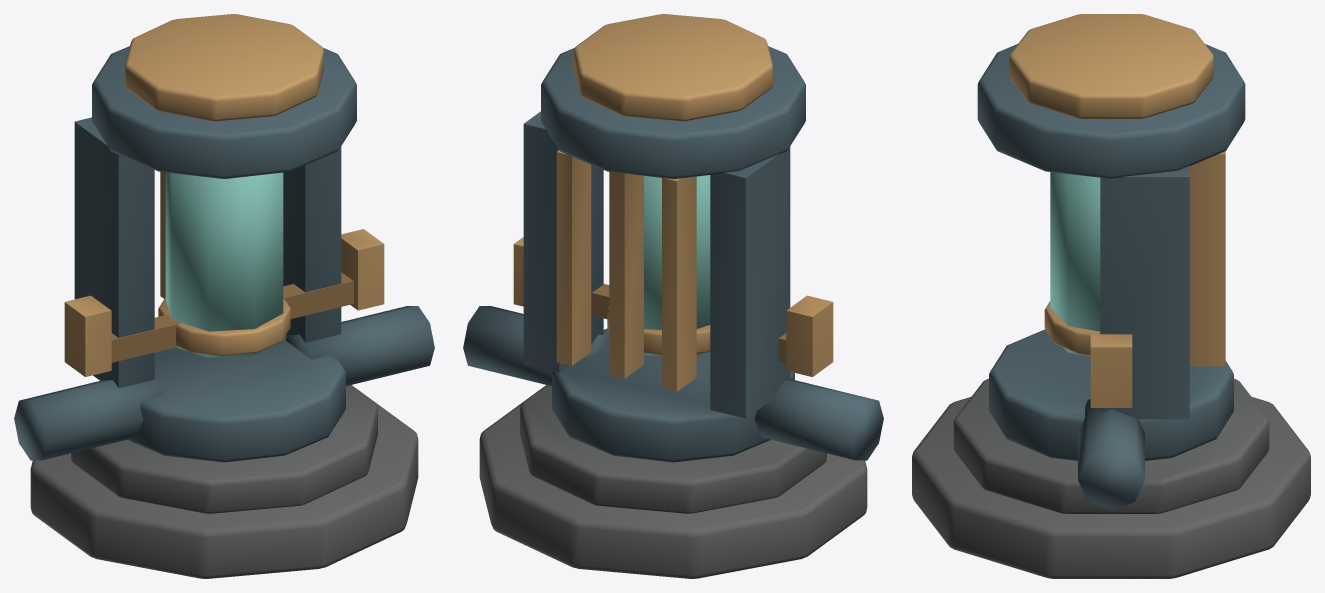
The model's file is forge-conduit-v1.glb.
The picture shows the model from 3 angles, left to right: view 1: azimuth 30°, elevation 25°; view 2: azimuth 150°, elevation 25°; view 3: azimuth 270°, elevation 25°; orthographic projection.
Parts seen in each view (by area): view 1: GB_CONDUIT_IRON, GB_CONDUIT_BASE, GB_CONDUIT_COPPER, GB_CONDUIT_FLOW, GB_CONDUIT_ROTOR_MESH; view 2: GB_CONDUIT_IRON, GB_CONDUIT_BASE, GB_CONDUIT_COPPER, GB_CONDUIT_ROTOR_MESH, GB_CONDUIT_FLOW; view 3: GB_CONDUIT_IRON, GB_CONDUIT_BASE, GB_CONDUIT_COPPER, GB_CONDUIT_FLOW, GB_CONDUIT_ROTOR_MESH.
Part boxes in pixels (box(x1,y1,x2,y2)): GB_CONDUIT_IRON: box(14, 46, 434, 462); GB_CONDUIT_BASE: box(30, 385, 418, 578); GB_CONDUIT_COPPER: box(125, 14, 323, 298); GB_CONDUIT_FLOW: box(165, 172, 283, 357); GB_CONDUIT_ROTOR_MESH: box(64, 229, 384, 376); GB_CONDUIT_IRON: box(463, 46, 883, 462); GB_CONDUIT_BASE: box(479, 385, 867, 578); GB_CONDUIT_COPPER: box(556, 14, 772, 391); GB_CONDUIT_ROTOR_MESH: box(513, 237, 833, 376); GB_CONDUIT_FLOW: box(644, 175, 710, 356); GB_CONDUIT_IRON: box(977, 44, 1245, 510); GB_CONDUIT_BASE: box(912, 378, 1310, 578); GB_CONDUIT_COPPER: box(1009, 14, 1225, 366); GB_CONDUIT_FLOW: box(1050, 172, 1100, 356); GB_CONDUIT_ROTOR_MESH: box(1044, 301, 1132, 407).
Bounding box in the file's own units: 1.62 × 1.77 × 1.43.
